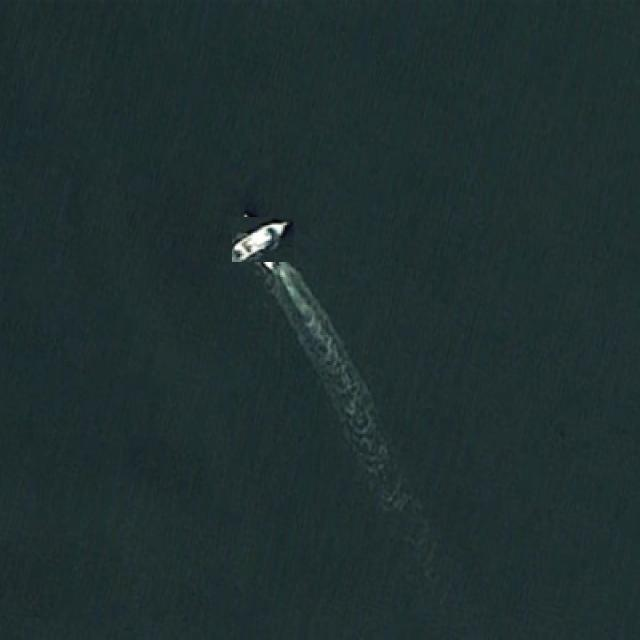boat: (236, 212, 290, 267)
